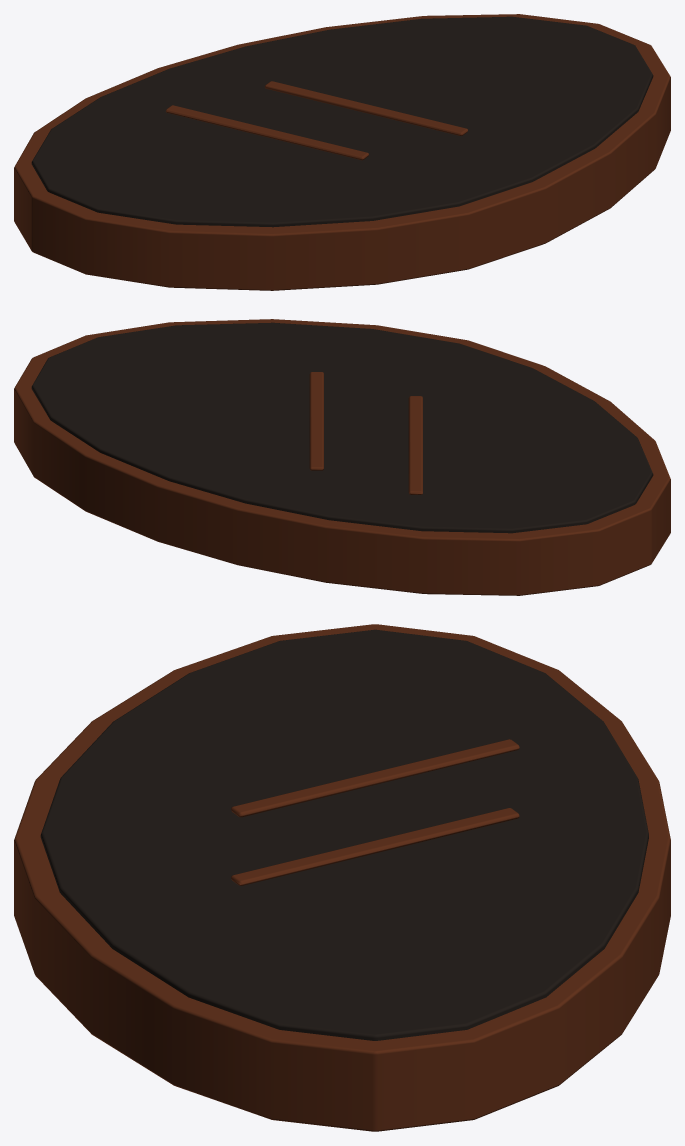
Rendered from Steak_Burnt.glb.
The picture shows the model from 3 angles, top to bottom: view 1: azimuth 30°, elevation 25°; view 2: azimuth 150°, elevation 25°; view 3: azimuth 270°, elevation 25°; orthographic projection. The views are drawn at different scales.
Parts seen in each view (by area): view 1: Steak_Burnt; view 2: Steak_Burnt; view 3: Steak_Burnt.
Boxes of the visible parts, x1=… form: Steak_Burnt: x1=14, y1=14, x2=670, y2=290; Steak_Burnt: x1=14, y1=319, x2=670, y2=595; Steak_Burnt: x1=14, y1=624, x2=670, y2=1131.
Bounding box in the file's own units: 0.2503 × 0.0263 × 0.162.
